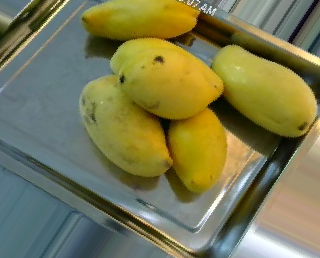Mango: (211, 38, 317, 135), (76, 73, 172, 174), (111, 38, 225, 122), (163, 105, 231, 192), (78, 1, 202, 45)
